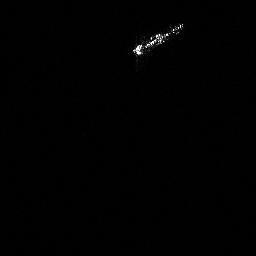ship: (128, 18, 186, 60)
